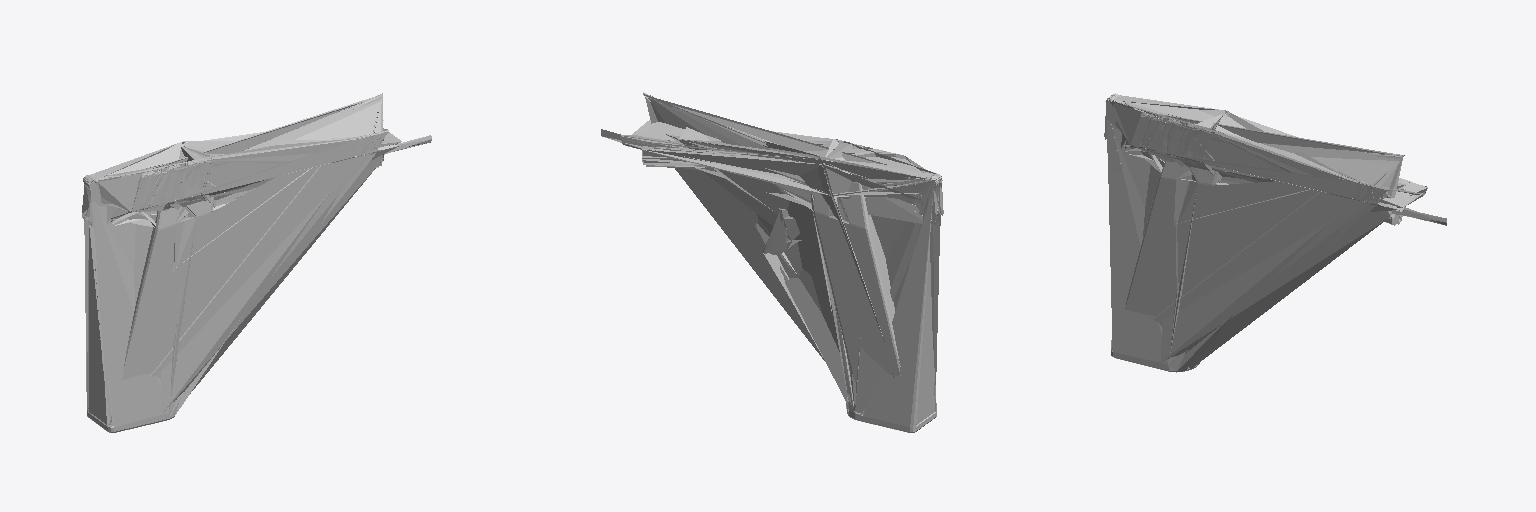
3 views of the same model, side by side, from view 1: azimuth 30°, elevation 25°; view 2: azimuth 150°, elevation 25°; view 3: azimuth 330°, elevation 25° (orthographic).
Visible parts, largest first — view 1: 5_Material000001_1.0, 5_Material0020d2_1.0, 5_Material00308d_1.0, 5_Material000cad_1.0; view 2: 5_Material0020d2_1.0, 5_Material000001_1.0, 5_Material00308d_1.0, 5_Material000cad_1.0; view 3: 5_Material000001_1.0, 5_Material0020d2_1.0, 5_Material00308d_1.0.
Boxes of the visible parts, x1=… form: 5_Material000001_1.0: x1=82, y1=93, x2=431, y2=429; 5_Material0020d2_1.0: x1=82, y1=130, x2=400, y2=432; 5_Material00308d_1.0: x1=87, y1=197, x2=213, y2=432; 5_Material000cad_1.0: x1=103, y1=202, x2=208, y2=416; 5_Material0020d2_1.0: x1=620, y1=134, x2=943, y2=430; 5_Material000001_1.0: x1=601, y1=92, x2=942, y2=429; 5_Material00308d_1.0: x1=810, y1=182, x2=936, y2=432; 5_Material000cad_1.0: x1=813, y1=192, x2=900, y2=412; 5_Material000001_1.0: x1=1104, y1=93, x2=1446, y2=370; 5_Material0020d2_1.0: x1=1104, y1=94, x2=1426, y2=371; 5_Material00308d_1.0: x1=1111, y1=160, x2=1219, y2=372.
Bounding box in the file's own units: 0.1919 × 0.1419 × 0.0244.